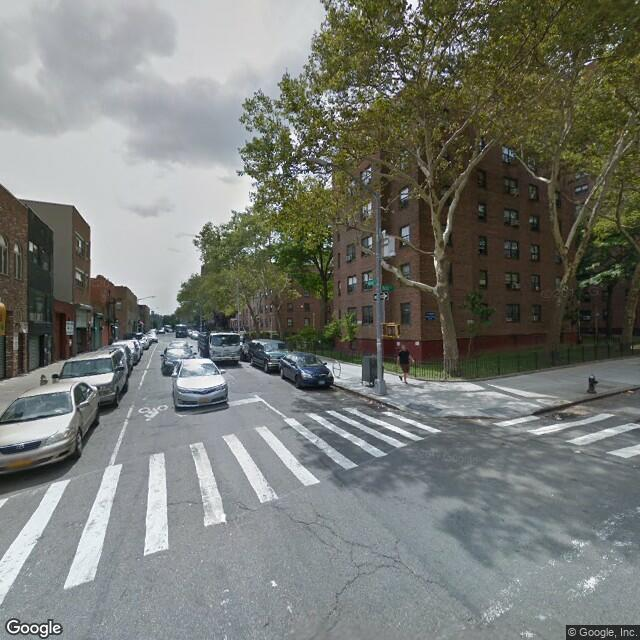litter: (543, 414, 569, 430)
